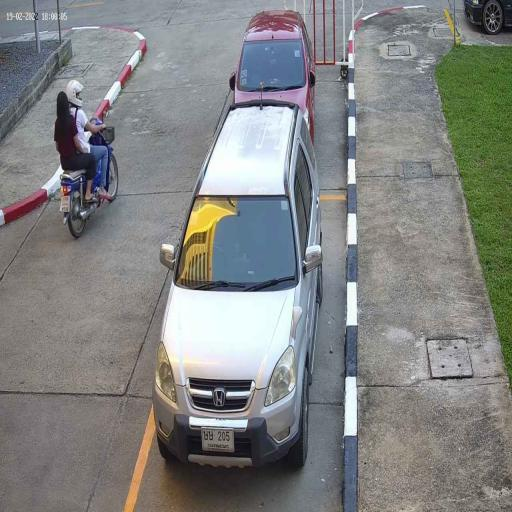car: (152, 99, 324, 472), (230, 7, 314, 113)
motorcycle: (57, 152, 121, 242)
